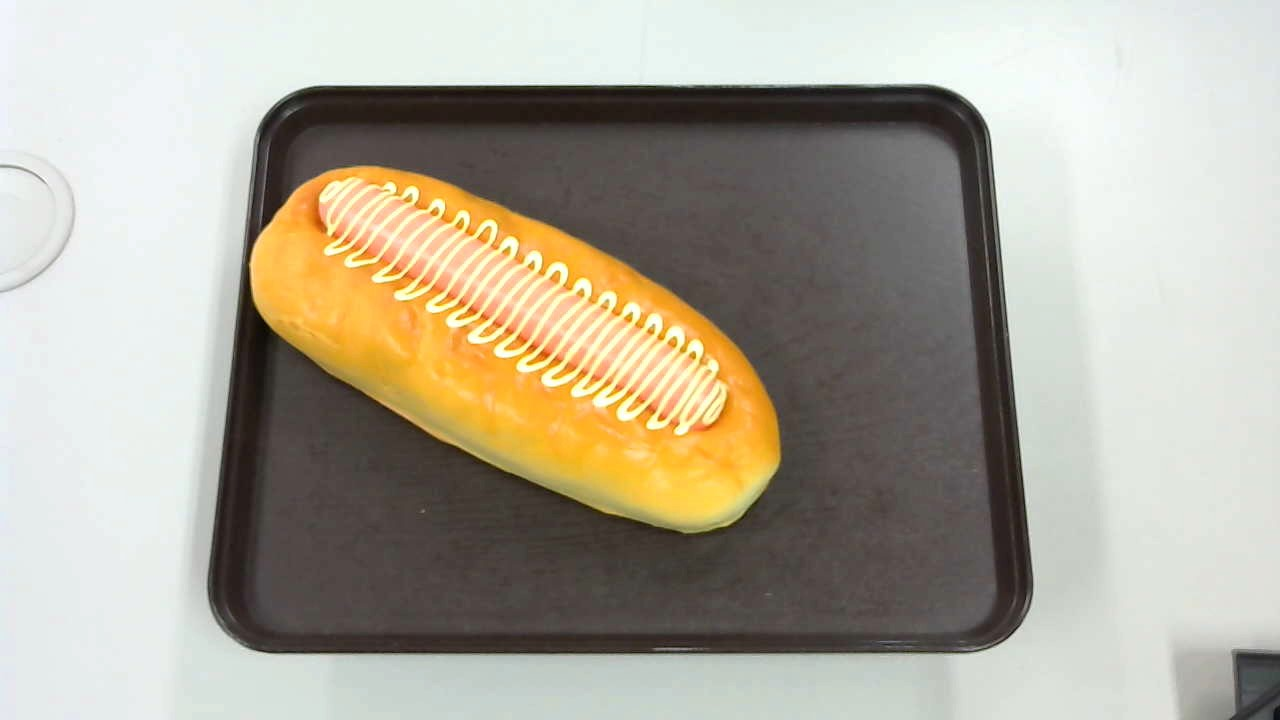hot dog: (250, 164, 780, 535)
